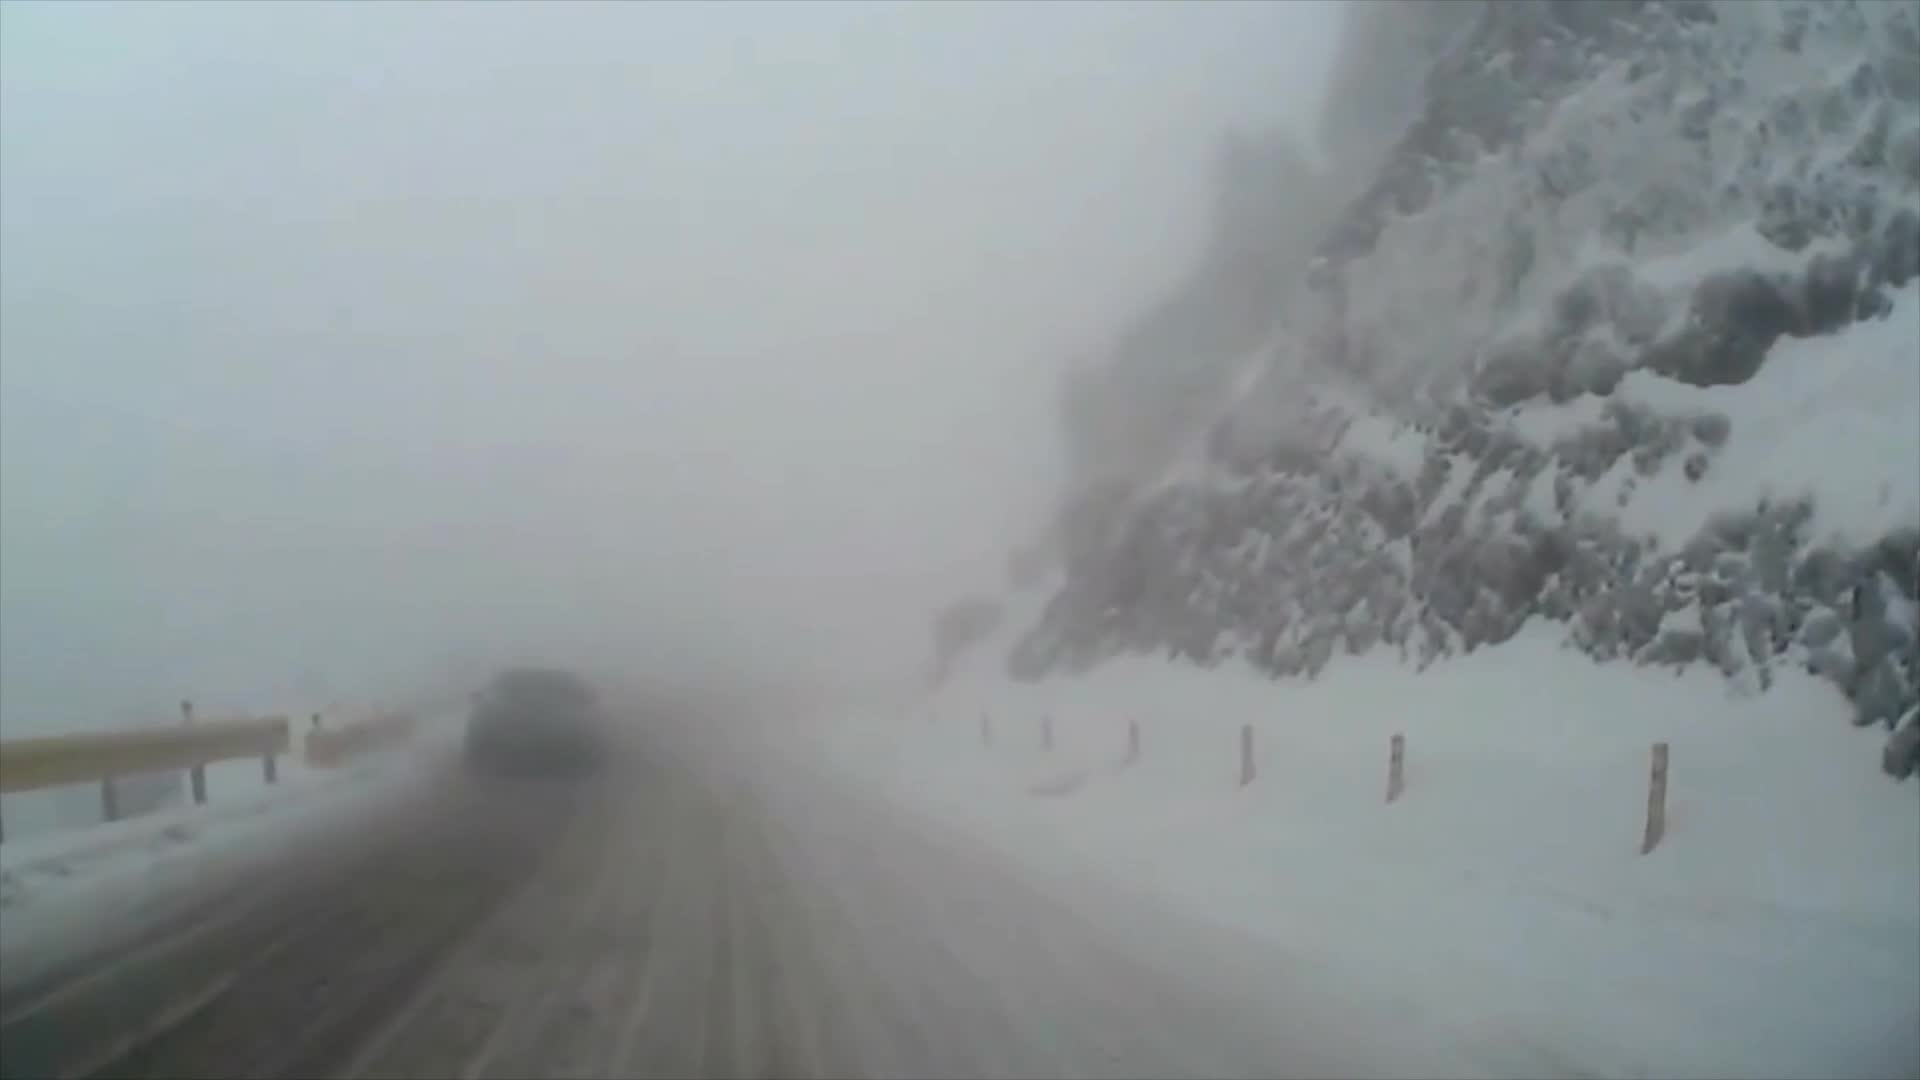vehicle: (463, 669, 605, 769)
